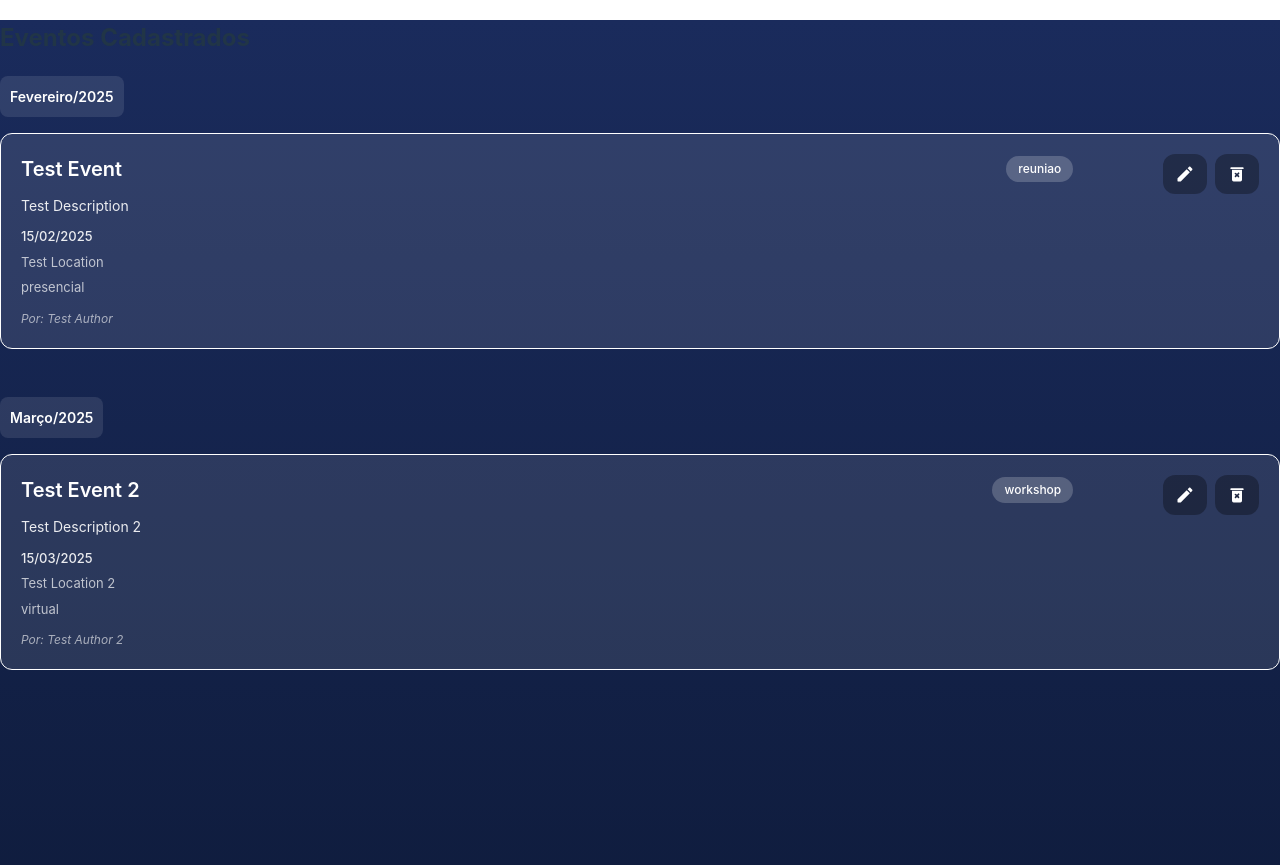
Test: EventsList › should show error message when update fails
Click the button titled "Editar" next to "reuniao" at {"x": 1185, "y": 174}, box [1163,154,1207,194]
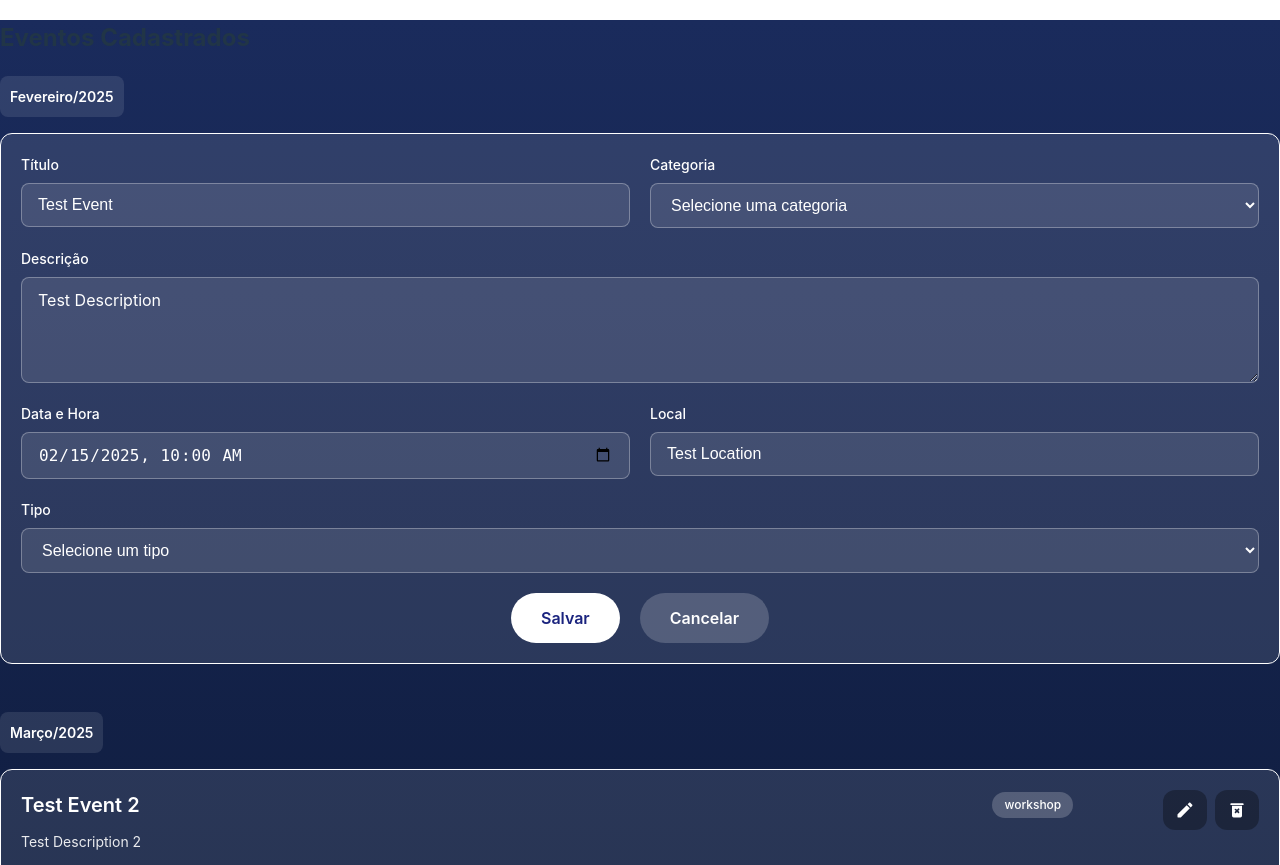
Replace the text in the field showing "2025-02-15T" with "2026-12-15T10:00" at {"x": 326, "y": 455}, box [21,432,630,479]
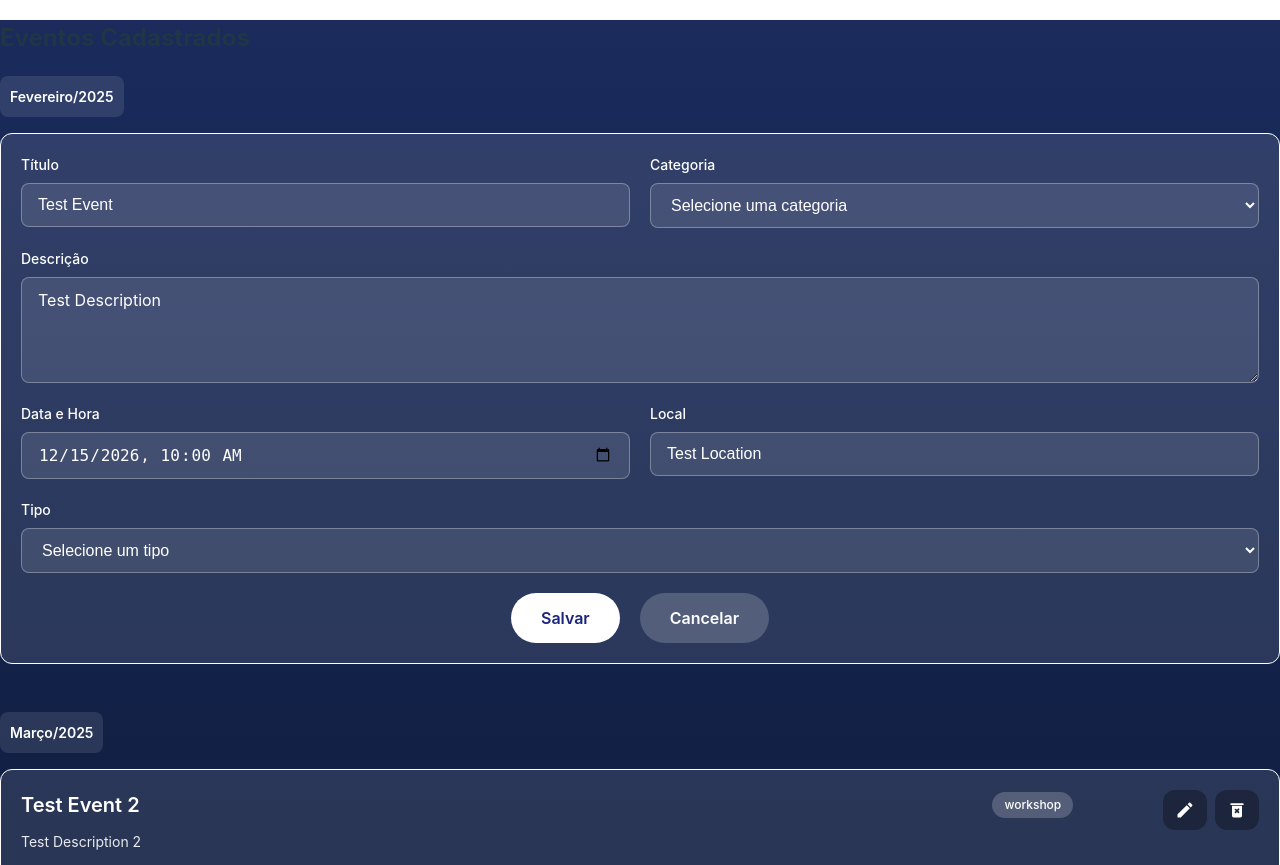
Click the button "Salvar" at {"x": 565, "y": 618}, box [511,593,620,643]
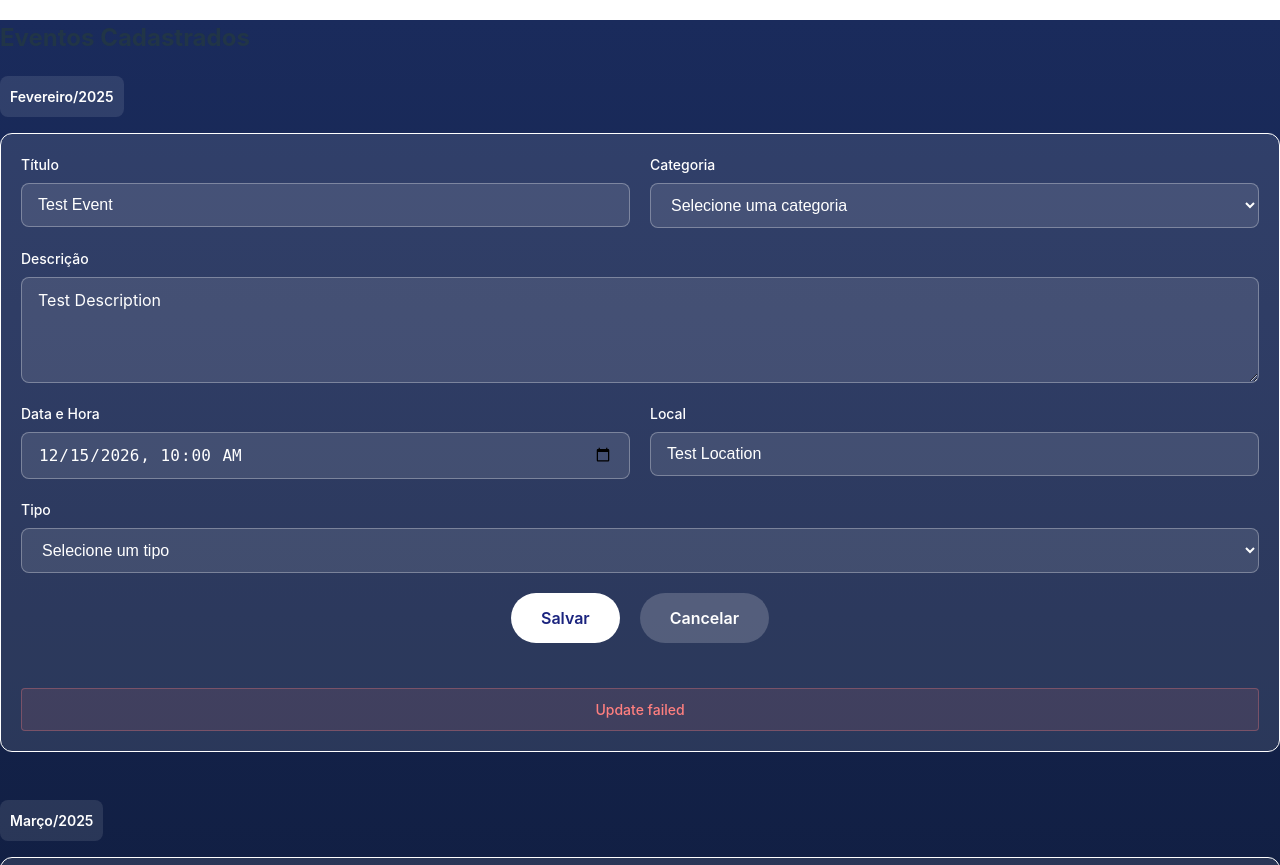
Expected: the text "Update failed" is shown, [21,688,1259,731]
